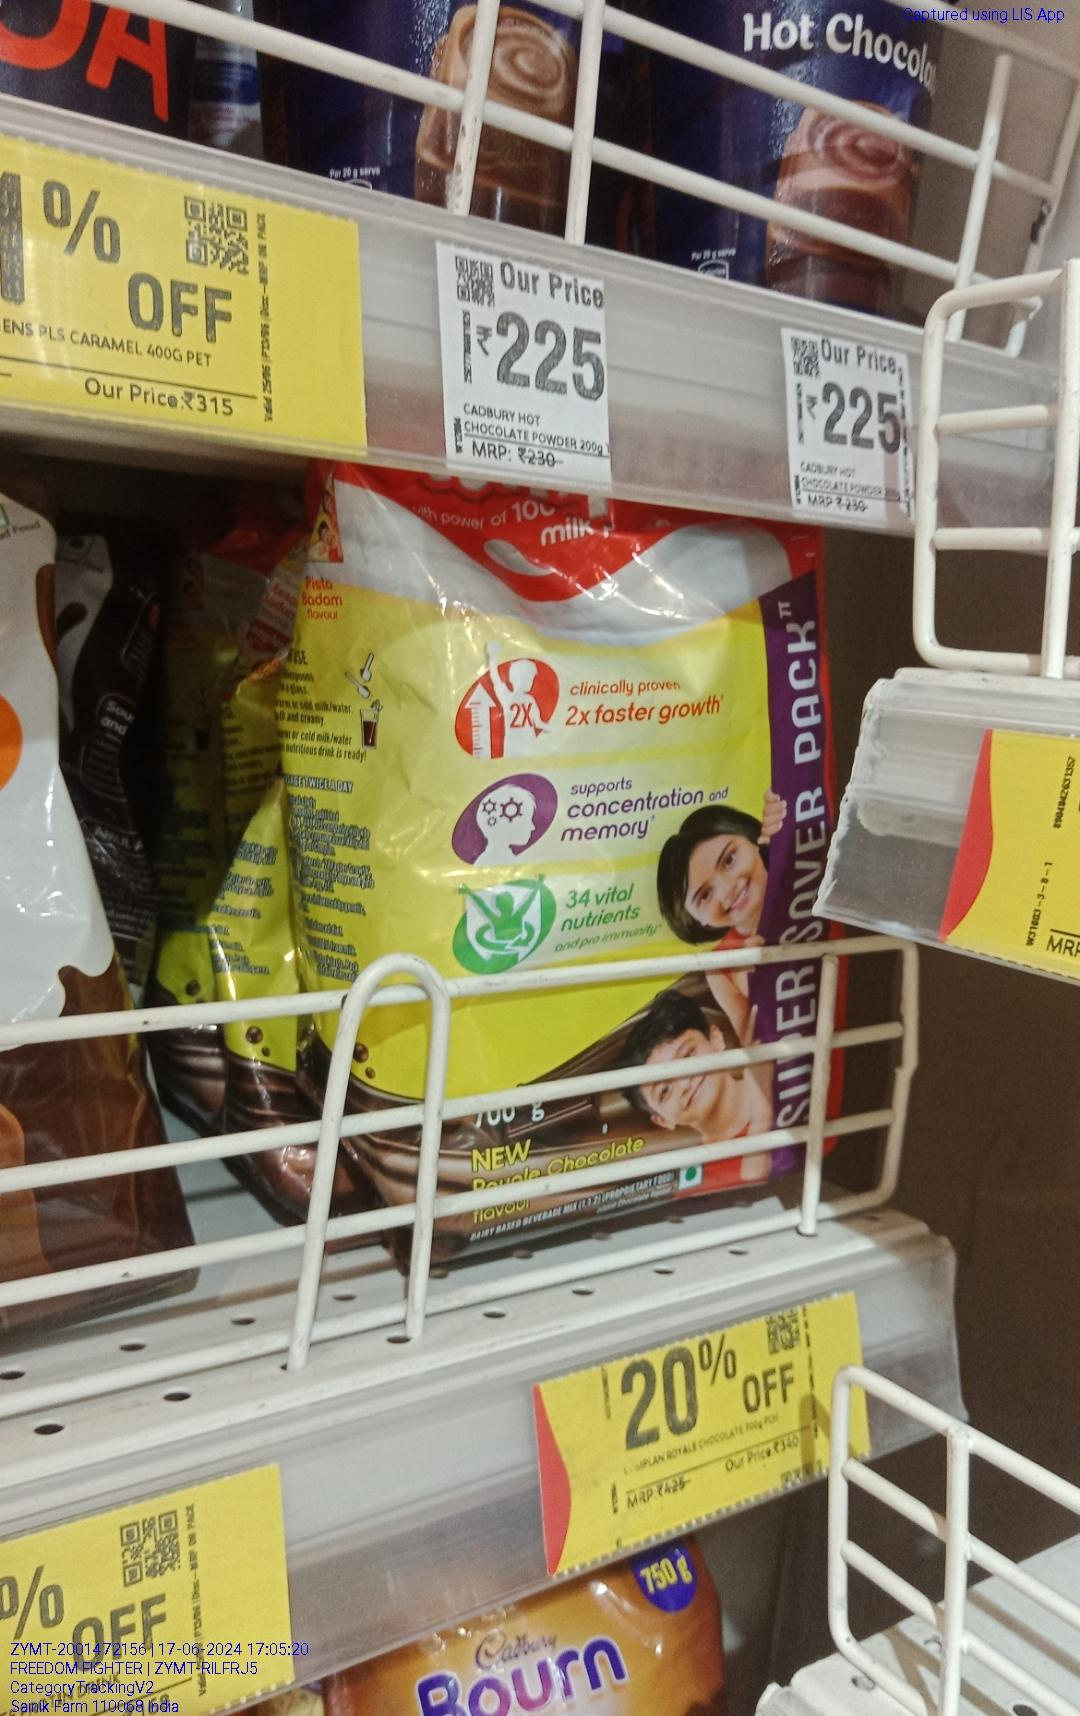COMPLAN_RC_POUCH_700_GMS_12: (328, 479, 861, 1222)
